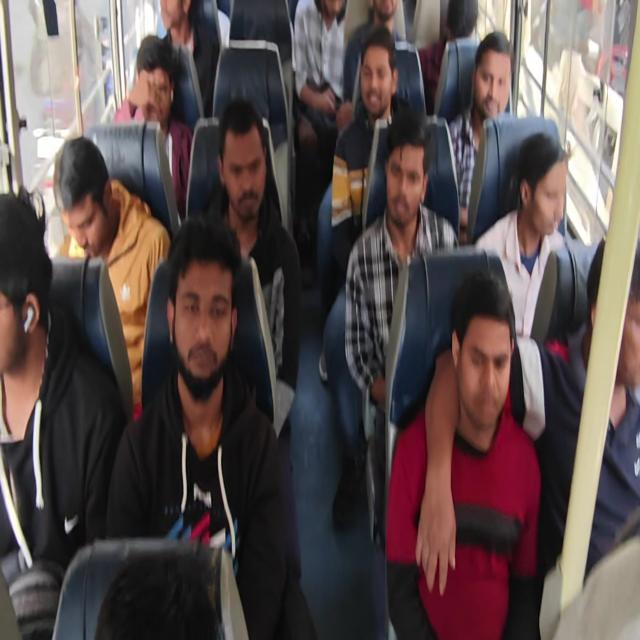person: (0, 177, 49, 395), (166, 232, 232, 392), (448, 274, 513, 433), (48, 143, 126, 274), (589, 240, 640, 411), (516, 139, 573, 247), (215, 112, 267, 228), (130, 31, 181, 146), (463, 36, 515, 134), (383, 127, 429, 227), (360, 45, 398, 113), (441, 0, 480, 55), (153, 0, 197, 36), (316, 0, 348, 28), (371, 0, 399, 23)
